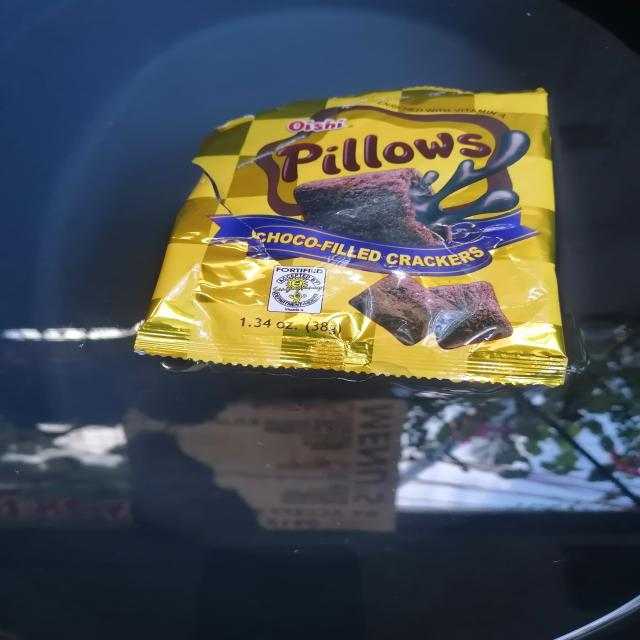Plastic Wrapper: (135, 87, 567, 387)
